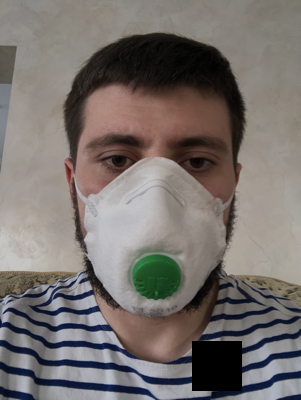with_mask: (79, 112, 232, 318)
